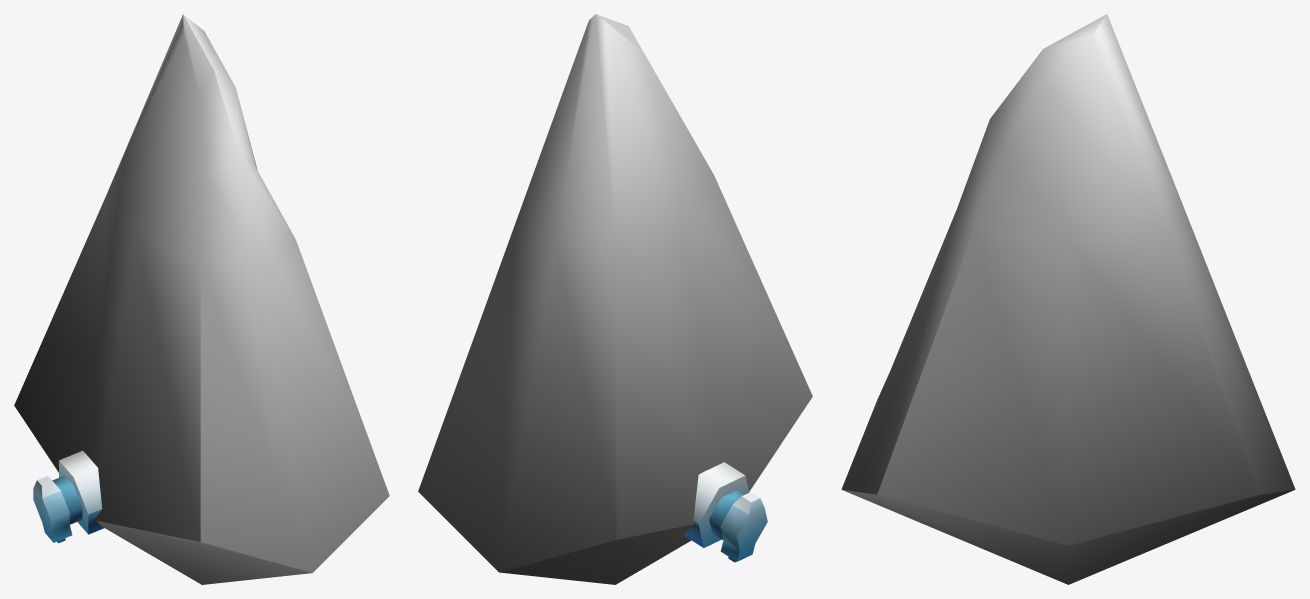
The model's file is Goon Bag.glb.
The picture shows the model from 3 angles, left to right: view 1: azimuth 30°, elevation 25°; view 2: azimuth 150°, elevation 25°; view 3: azimuth 270°, elevation 25°; orthographic projection. The views are drawn at different scales.
Parts seen in each view (by area): view 1: Goon Bag; view 2: Goon Bag; view 3: Goon Bag.
Part boxes in pixels (x1=…): Goon Bag: x1=14, y1=14, x2=389, y2=584; Goon Bag: x1=418, y1=14, x2=812, y2=584; Goon Bag: x1=841, y1=14, x2=1295, y2=584.
Bounding box in the file's own units: 0.3166 × 0.6408 × 0.462.
1 material, 1 textured.
